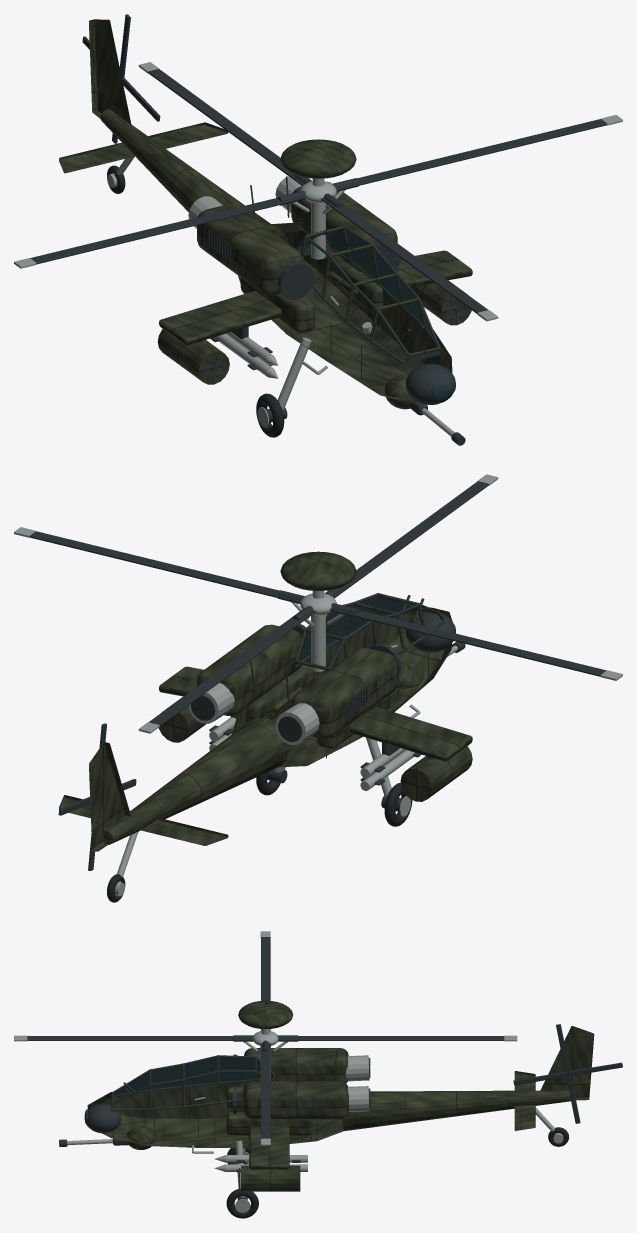
Rendered from apache.glb.
3 renders of one model, top to bottom at view 1: azimuth 30°, elevation 25°; view 2: azimuth 150°, elevation 25°; view 3: azimuth 270°, elevation 25°, orthographic. The views are drawn at different scales.
Parts seen in each view (by area): view 1: Refined eight-sided armored fuselage, Turboshaft armored nacelle, Tapered tail boom, Stub weapons wing, Swept vertical stabilizer, Longbow radar radome, Tandem armored glass panes, Tapered horizontal stabilator, Main rotor blade 2, Main rotor blade 0, Main rotor blade 3, Turboshaft armored nacelle.001 (+13 smaller); view 2: Tapered tail boom, Turboshaft armored nacelle, Refined eight-sided armored fuselage, Turboshaft armored nacelle.001, Stub weapons wing, Swept vertical stabilizer, Longbow radar radome, Main rotor blade 2, Main rotor blade 0, Rocket pod casing, Main rotor blade 1, Main rotor blade 3 (+12 smaller); view 3: Refined eight-sided armored fuselage, Tapered tail boom, Turboshaft armored nacelle.001, Turboshaft armored nacelle, Tandem armored glass panes, Swept vertical stabilizer, Stub weapons wing.001, Rocket pod casing.001, Longbow radar radome, Avionics cheek fairing.001, Main rotor blade 1, Main rotor blade 3 (+8 smaller).
Boxes of the visible parts, box(x1,y1,x2,y2) form: Refined eight-sided armored fuselage: box(238, 222, 452, 403); Turboshaft armored nacelle: box(197, 204, 303, 295); Tapered tail boom: box(100, 109, 288, 243); Stub weapons wing: box(159, 290, 281, 345); Swept vertical stabilizer: box(89, 19, 131, 124); Longbow radar radome: box(280, 139, 356, 178); Tandem armored glass panes: box(297, 230, 441, 362); Tapered horizontal stabilator: box(59, 122, 228, 173); Main rotor blade 2: box(30, 196, 306, 264); Main rotor blade 0: box(336, 119, 606, 190); Main rotor blade 3: box(321, 195, 487, 313); Turboshaft armored nacelle.001: box(291, 181, 397, 272); Tapered tail boom: box(103, 717, 289, 844); Turboshaft armored nacelle: box(291, 647, 397, 738); Refined eight-sided armored fuselage: box(232, 607, 452, 767); Turboshaft armored nacelle.001: box(197, 624, 301, 715); Stub weapons wing: box(349, 707, 472, 761); Swept vertical stabilizer: box(89, 742, 131, 851); Longbow radar radome: box(280, 551, 356, 590); Main rotor blade 2: box(330, 608, 606, 676); Main rotor blade 0: box(30, 531, 300, 603); Rocket pod casing: box(400, 746, 472, 801); Main rotor blade 1: box(149, 608, 315, 725); Main rotor blade 3: box(325, 481, 488, 598); Refined eight-sided armored fuselage: box(87, 1076, 361, 1147); Tapered tail boom: box(342, 1090, 570, 1130); Turboshaft armored nacelle.001: box(243, 1081, 348, 1119); Turboshaft armored nacelle: box(244, 1048, 348, 1083); Tandem armored glass panes: box(114, 1057, 272, 1095); Swept vertical stabilizer: box(540, 1026, 594, 1100); Stub weapons wing.001: box(249, 1126, 289, 1169); Rocket pod casing.001: box(241, 1165, 300, 1191); Longbow radar radome: box(238, 1000, 293, 1029); Avionics cheek fairing.001: box(226, 1112, 312, 1135); Main rotor blade 1: box(278, 1036, 504, 1040); Main rotor blade 3: box(27, 1036, 253, 1040).
Bounding box in the file's own units: 13.15 × 5.45 × 15.91.
Materials: 6 (1 with a texture image).
